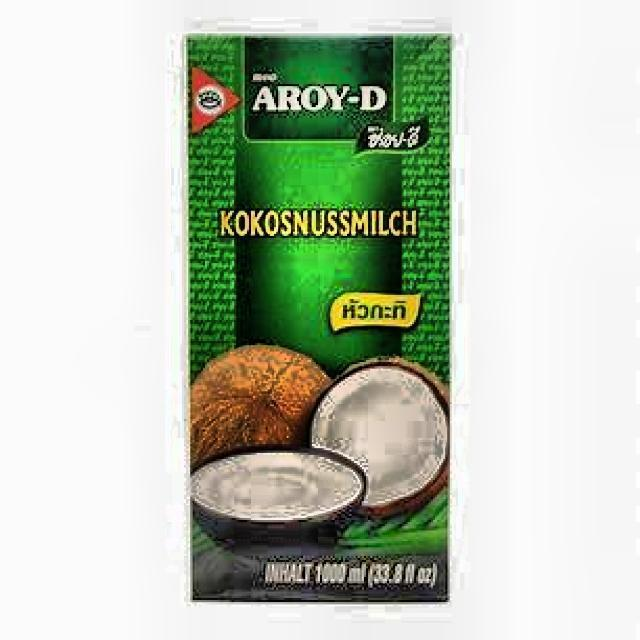cardboard: (184, 31, 452, 602)
